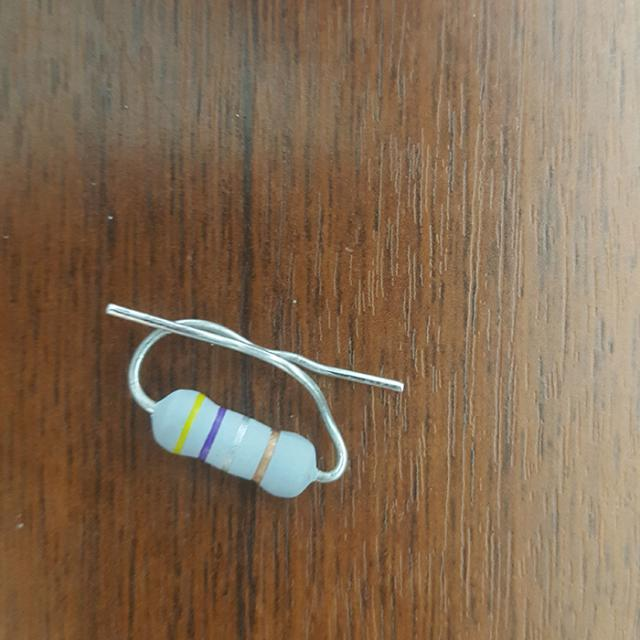Resistor Carbon-Film: (147, 382, 320, 500)
